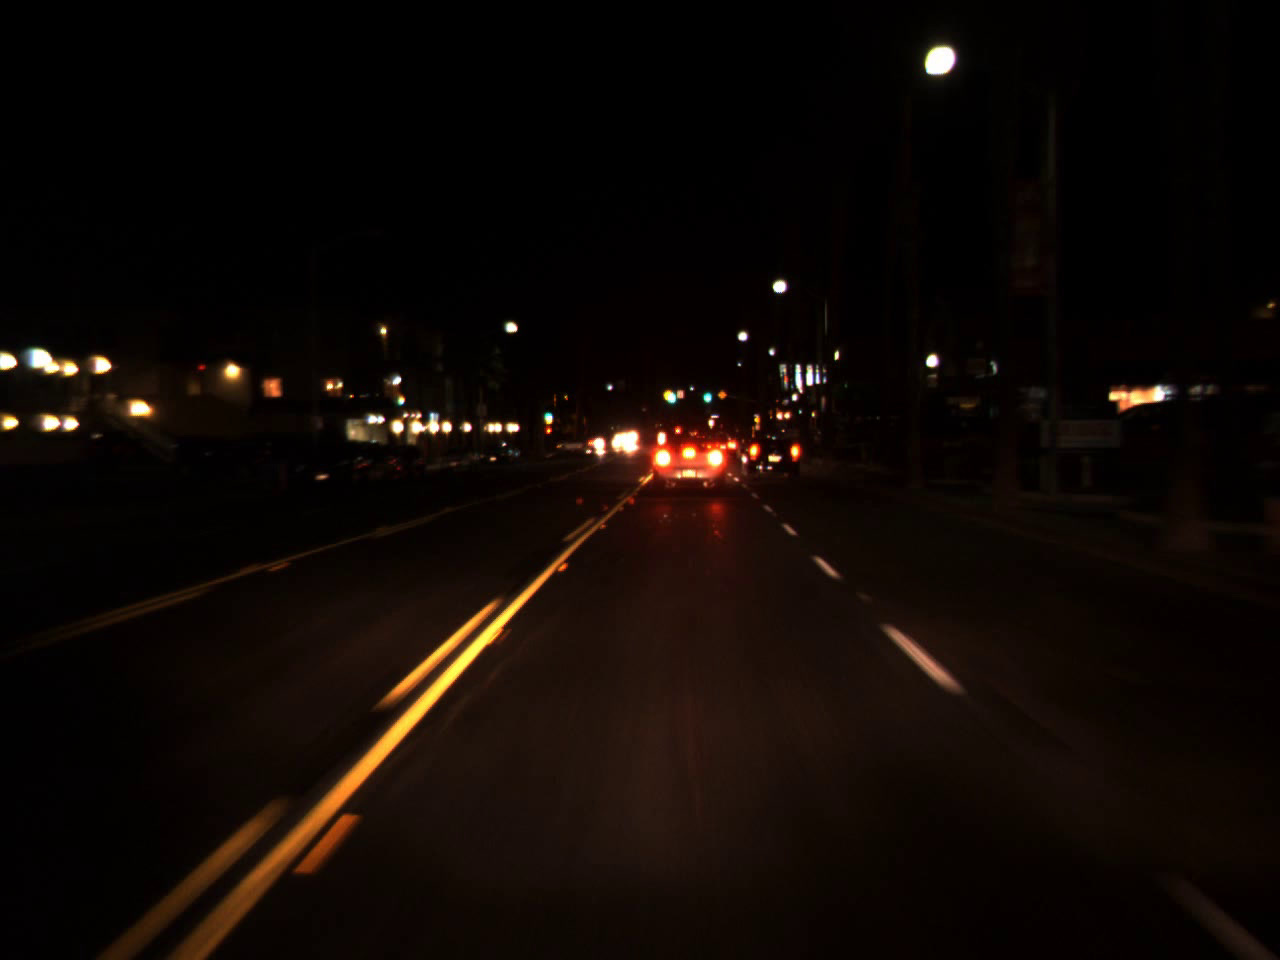go: (664, 384, 676, 405), (700, 383, 712, 404), (543, 406, 552, 421)
